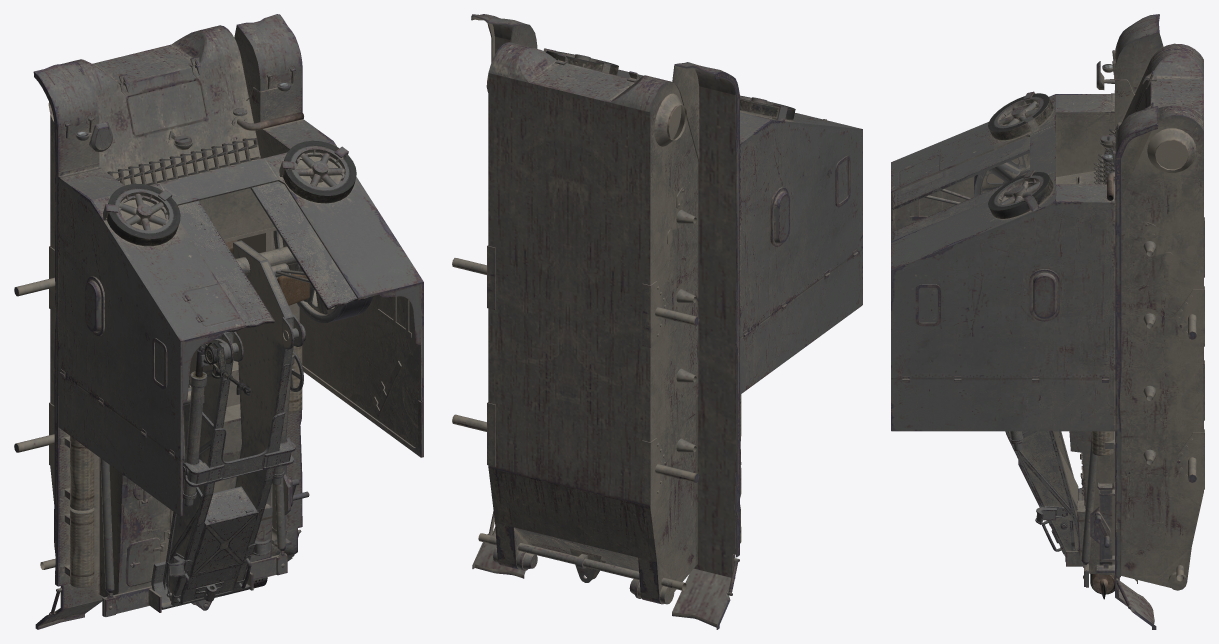
The model's file is Hull.glb.
The picture shows the model from 3 angles, left to right: view 1: azimuth 30°, elevation 25°; view 2: azimuth 150°, elevation 25°; view 3: azimuth 270°, elevation 25°; orthographic projection. The views are drawn at different scales.
Visible parts, largest first — view 1: set_0_group_0, set_0_group_1; view 2: set_0_group_0; view 3: set_0_group_0, set_0_group_1.
Boxes of the visible parts, x1=… form: set_0_group_0: x1=14, y1=14, x2=423, y2=629; set_0_group_1: x1=151, y1=181, x2=379, y2=610; set_0_group_0: x1=452, y1=14, x2=862, y2=629; set_0_group_0: x1=891, y1=14, x2=1204, y2=629; set_0_group_1: x1=892, y1=137, x2=1083, y2=561.
Bounding box in the file's own units: 2.12 × 4.42 × 2.47.
2 materials, 2 textured.
